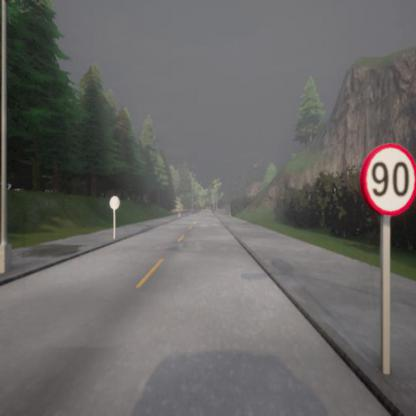traffic_sign_90: (360, 143, 414, 218)
